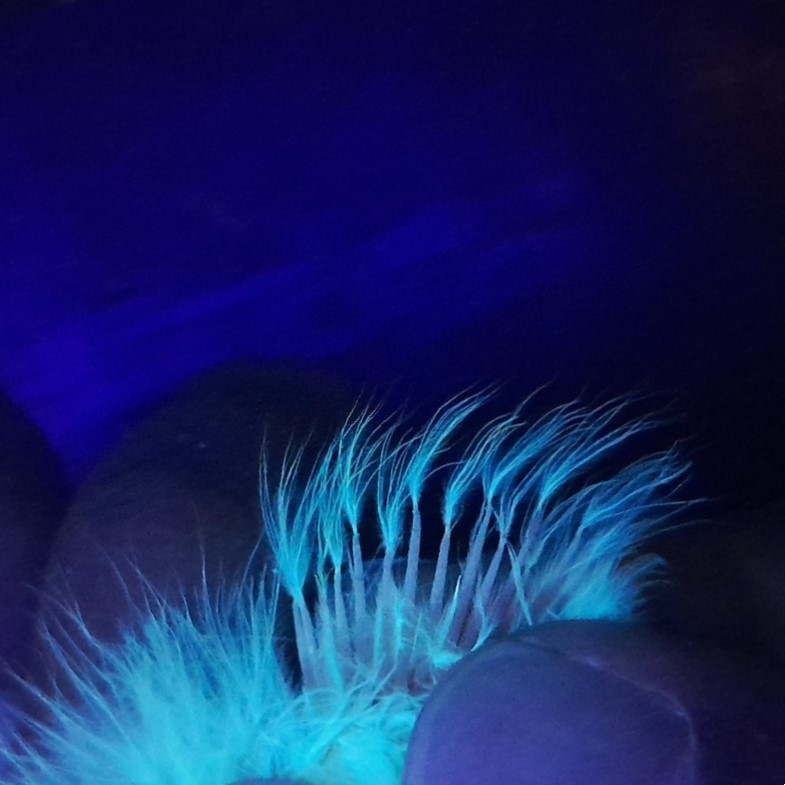male: (271, 488, 628, 755)
